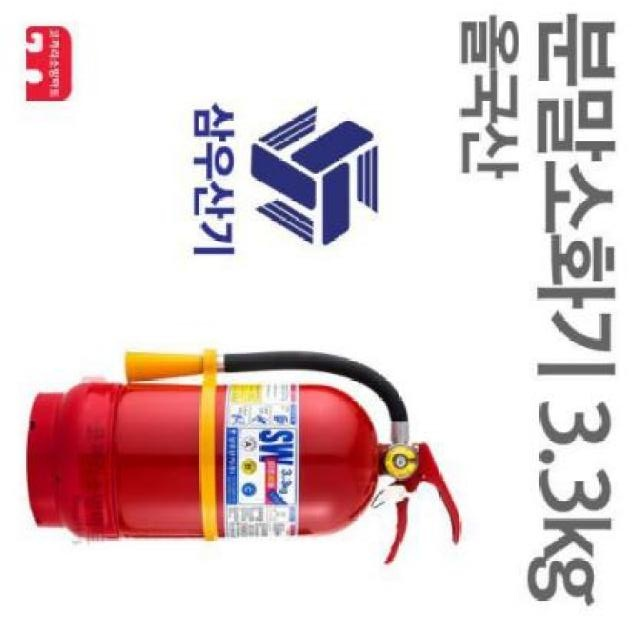fire extinguisher: (25, 351, 464, 565)
